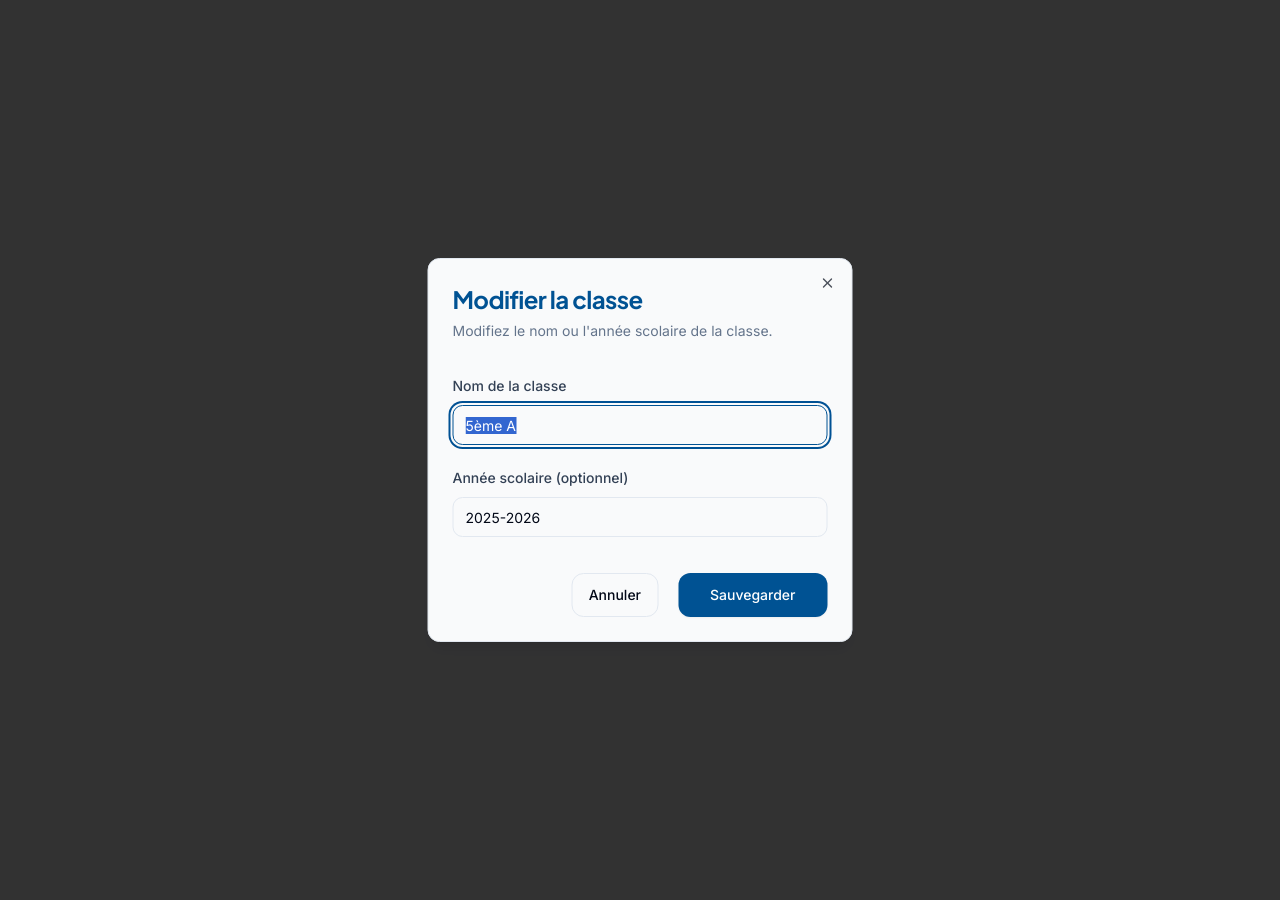
Test case: UpdateClassDialog › shows server error on update failure
Click the button "Sauvegarder" at (753, 595), box [678,573,828,617]
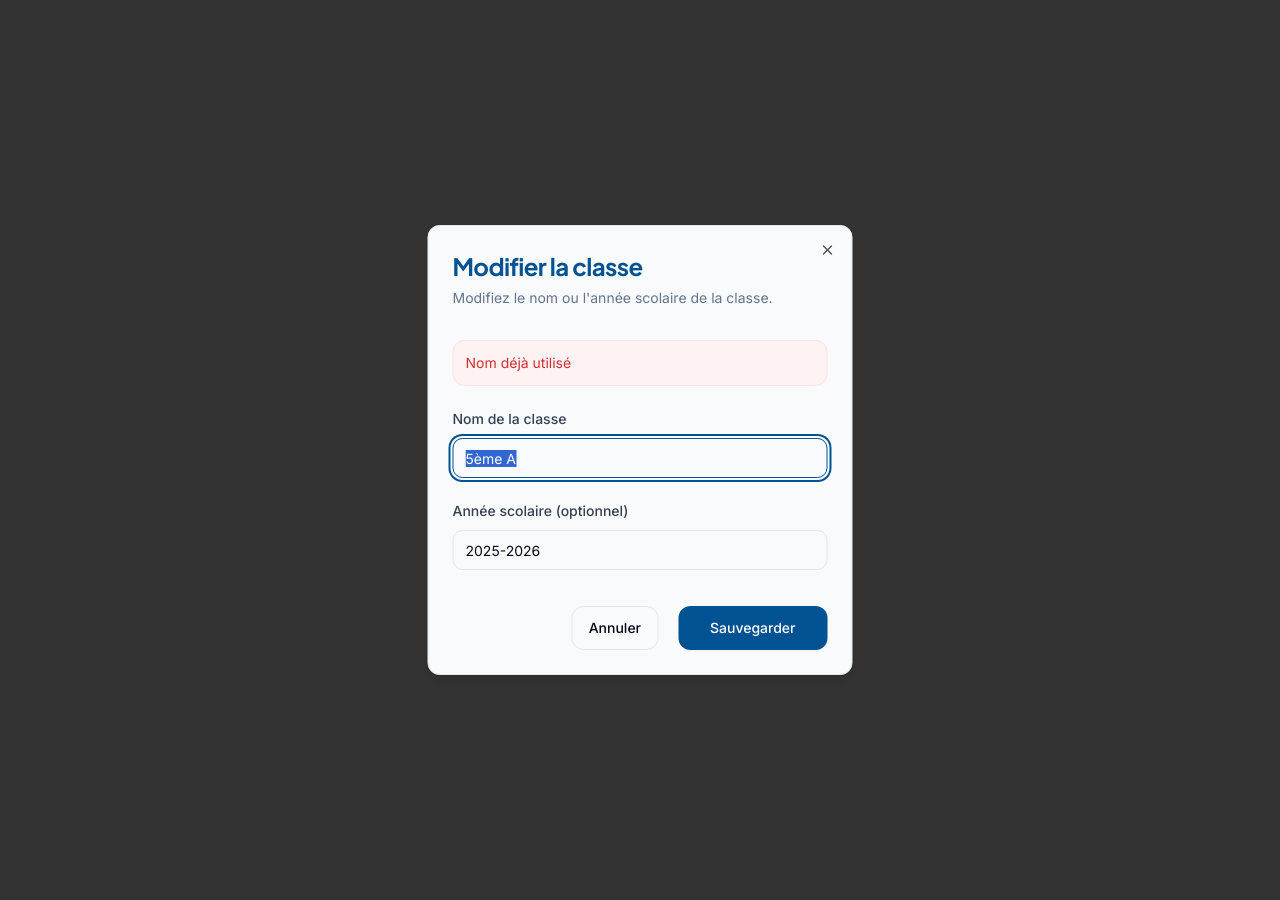
Check: the text "Nom déjà utilisé" is shown, box [452,340,828,386]
